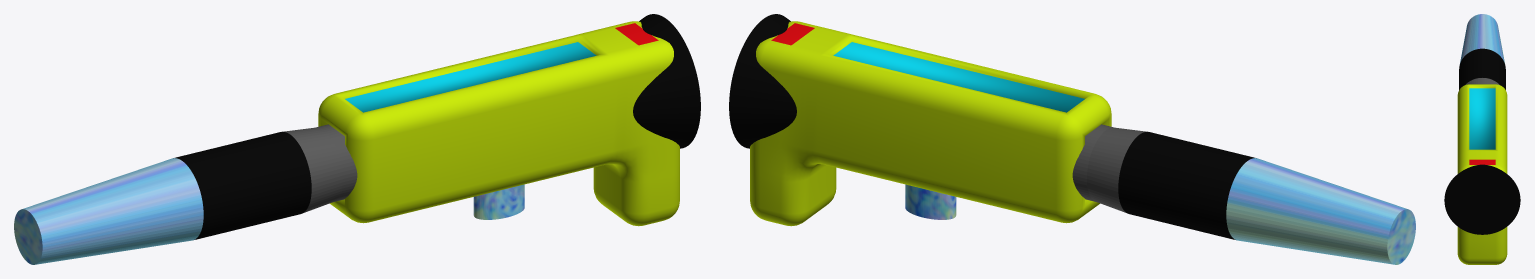
Rendered from bubble-gun.glb.
The picture shows the model from 3 angles, left to right: view 1: azimuth 30°, elevation 25°; view 2: azimuth 150°, elevation 25°; view 3: azimuth 270°, elevation 25°; orthographic projection. The views are drawn at different scales.
Parts seen in each view (by area): view 1: Blaster, Cylinder; view 2: Blaster, Cylinder; view 3: Cylinder, Blaster.
Part boxes in pixels (left/top/right/bottom): Blaster: left=318, top=21, right=679, bottom=226; Cylinder: left=14, top=14, right=700, bottom=264; Blaster: left=750, top=21, right=1111, bottom=226; Cylinder: left=729, top=14, right=1415, bottom=264; Cylinder: left=1444, top=14, right=1520, bottom=234; Blaster: left=1457, top=84, right=1507, bottom=264.
Bounding box in the file's own units: 3.84 × 1.08 × 0.7185.
6 materials, 1 textured.
